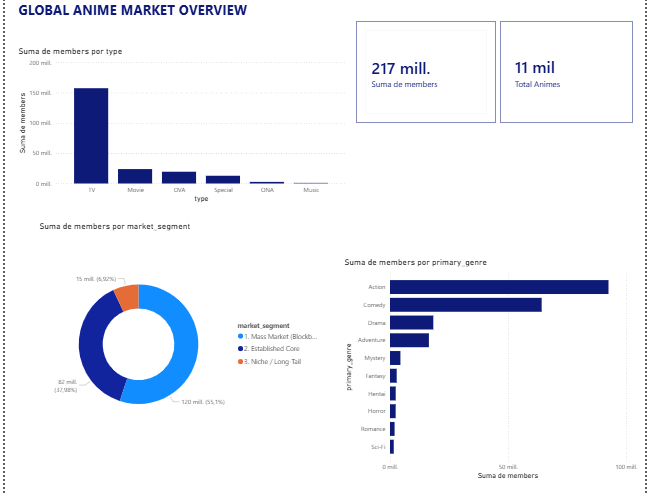

The dashboard page shown, as its layout file describes it:
{"tool":"powerbi","page":{"name":"Market Overview","canvas":[1280,1000],"ordinal":0},"visuals":[{"type":"clusteredBarChart","fields":{"Y":["Sum(bi_anime_dashboard_data.members)"],"Category":["bi_anime_dashboard_data.primary_genre"]},"box":[674,518,596,450],"z":0},{"type":"cardVisual","fields":{"Data":["Sum(bi_anime_dashboard_data.members)"]},"box":[702,46,280,204],"z":1000},{"type":"donutChart","fields":{"Category":["bi_anime_dashboard_data.market_segment"],"Y":["Sum(bi_anime_dashboard_data.members)"]},"box":[64,446,576,474],"z":2000},{"type":"clusteredColumnChart","fields":{"Category":["bi_anime_dashboard_data.type"],"Y":["Sum(bi_anime_dashboard_data.members)"]},"box":[22,96,666,318],"z":3000},{"type":"textbox","box":[22,0,680,46],"z":4000},{"type":"textbox","box":[1100,96,180,228],"z":5000},{"type":"textbox","box":[1100,96,180,228],"z":6000},{"type":"cardVisual","fields":{"Data":["bi_anime_dashboard_data.Total Animes"]},"box":[990,46,266,204],"z":7000}]}

Visuals, with their boxes in screenshot pixels (x1, y1, x2, y2), scaled from the page's 1280x1000 canvas onto the 647x494 screenshot:
clusteredBarChart - Sum(bi_anime_dashboard_data.members) x bi_anime_dashboard_data.primary_genre: (left=341, top=256, right=642, bottom=478)
cardVisual - Sum(bi_anime_dashboard_data.members): (left=355, top=23, right=496, bottom=124)
donutChart - bi_anime_dashboard_data.market_segment x Sum(bi_anime_dashboard_data.members): (left=32, top=220, right=324, bottom=454)
clusteredColumnChart - bi_anime_dashboard_data.type x Sum(bi_anime_dashboard_data.members): (left=11, top=47, right=348, bottom=205)
textbox: (left=11, top=0, right=355, bottom=23)
textbox: (left=556, top=47, right=646, bottom=160)
textbox: (left=556, top=47, right=646, bottom=160)
cardVisual - bi_anime_dashboard_data.Total Animes: (left=500, top=23, right=635, bottom=124)
